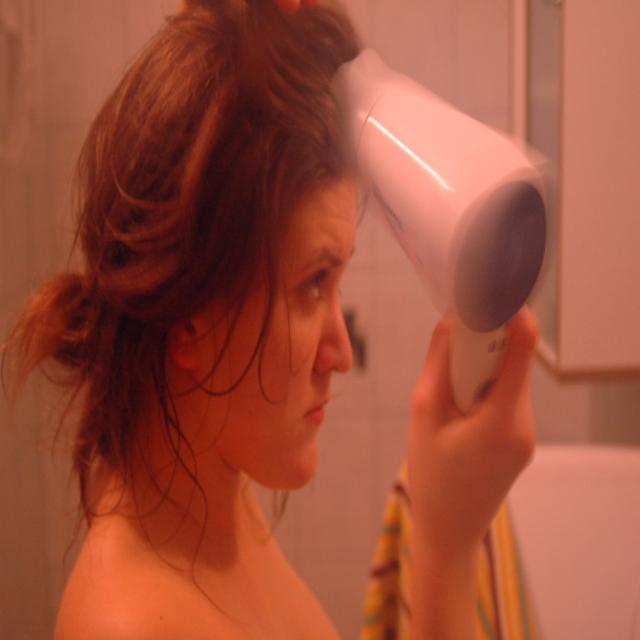dryer: (310, 30, 562, 545)
